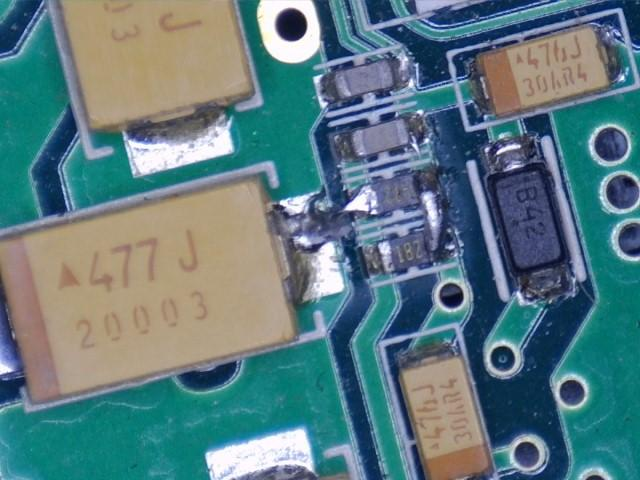pcb_defect: (273, 183, 382, 304), (402, 165, 459, 262)
